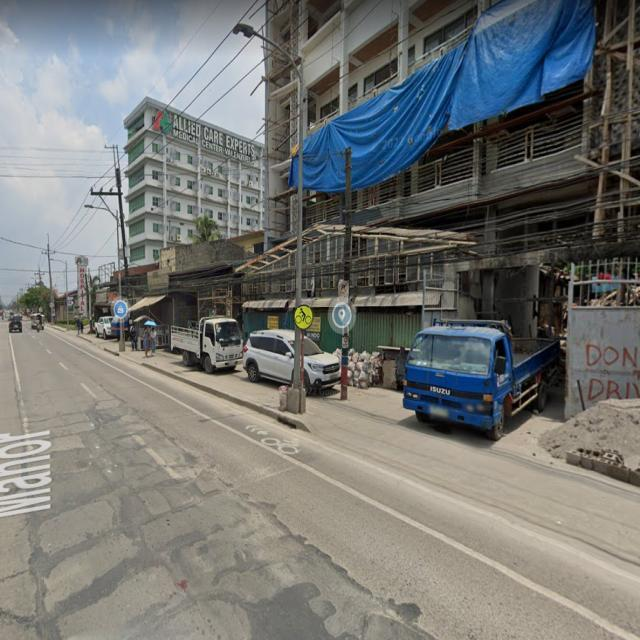bike lane: (291, 303, 317, 333)
